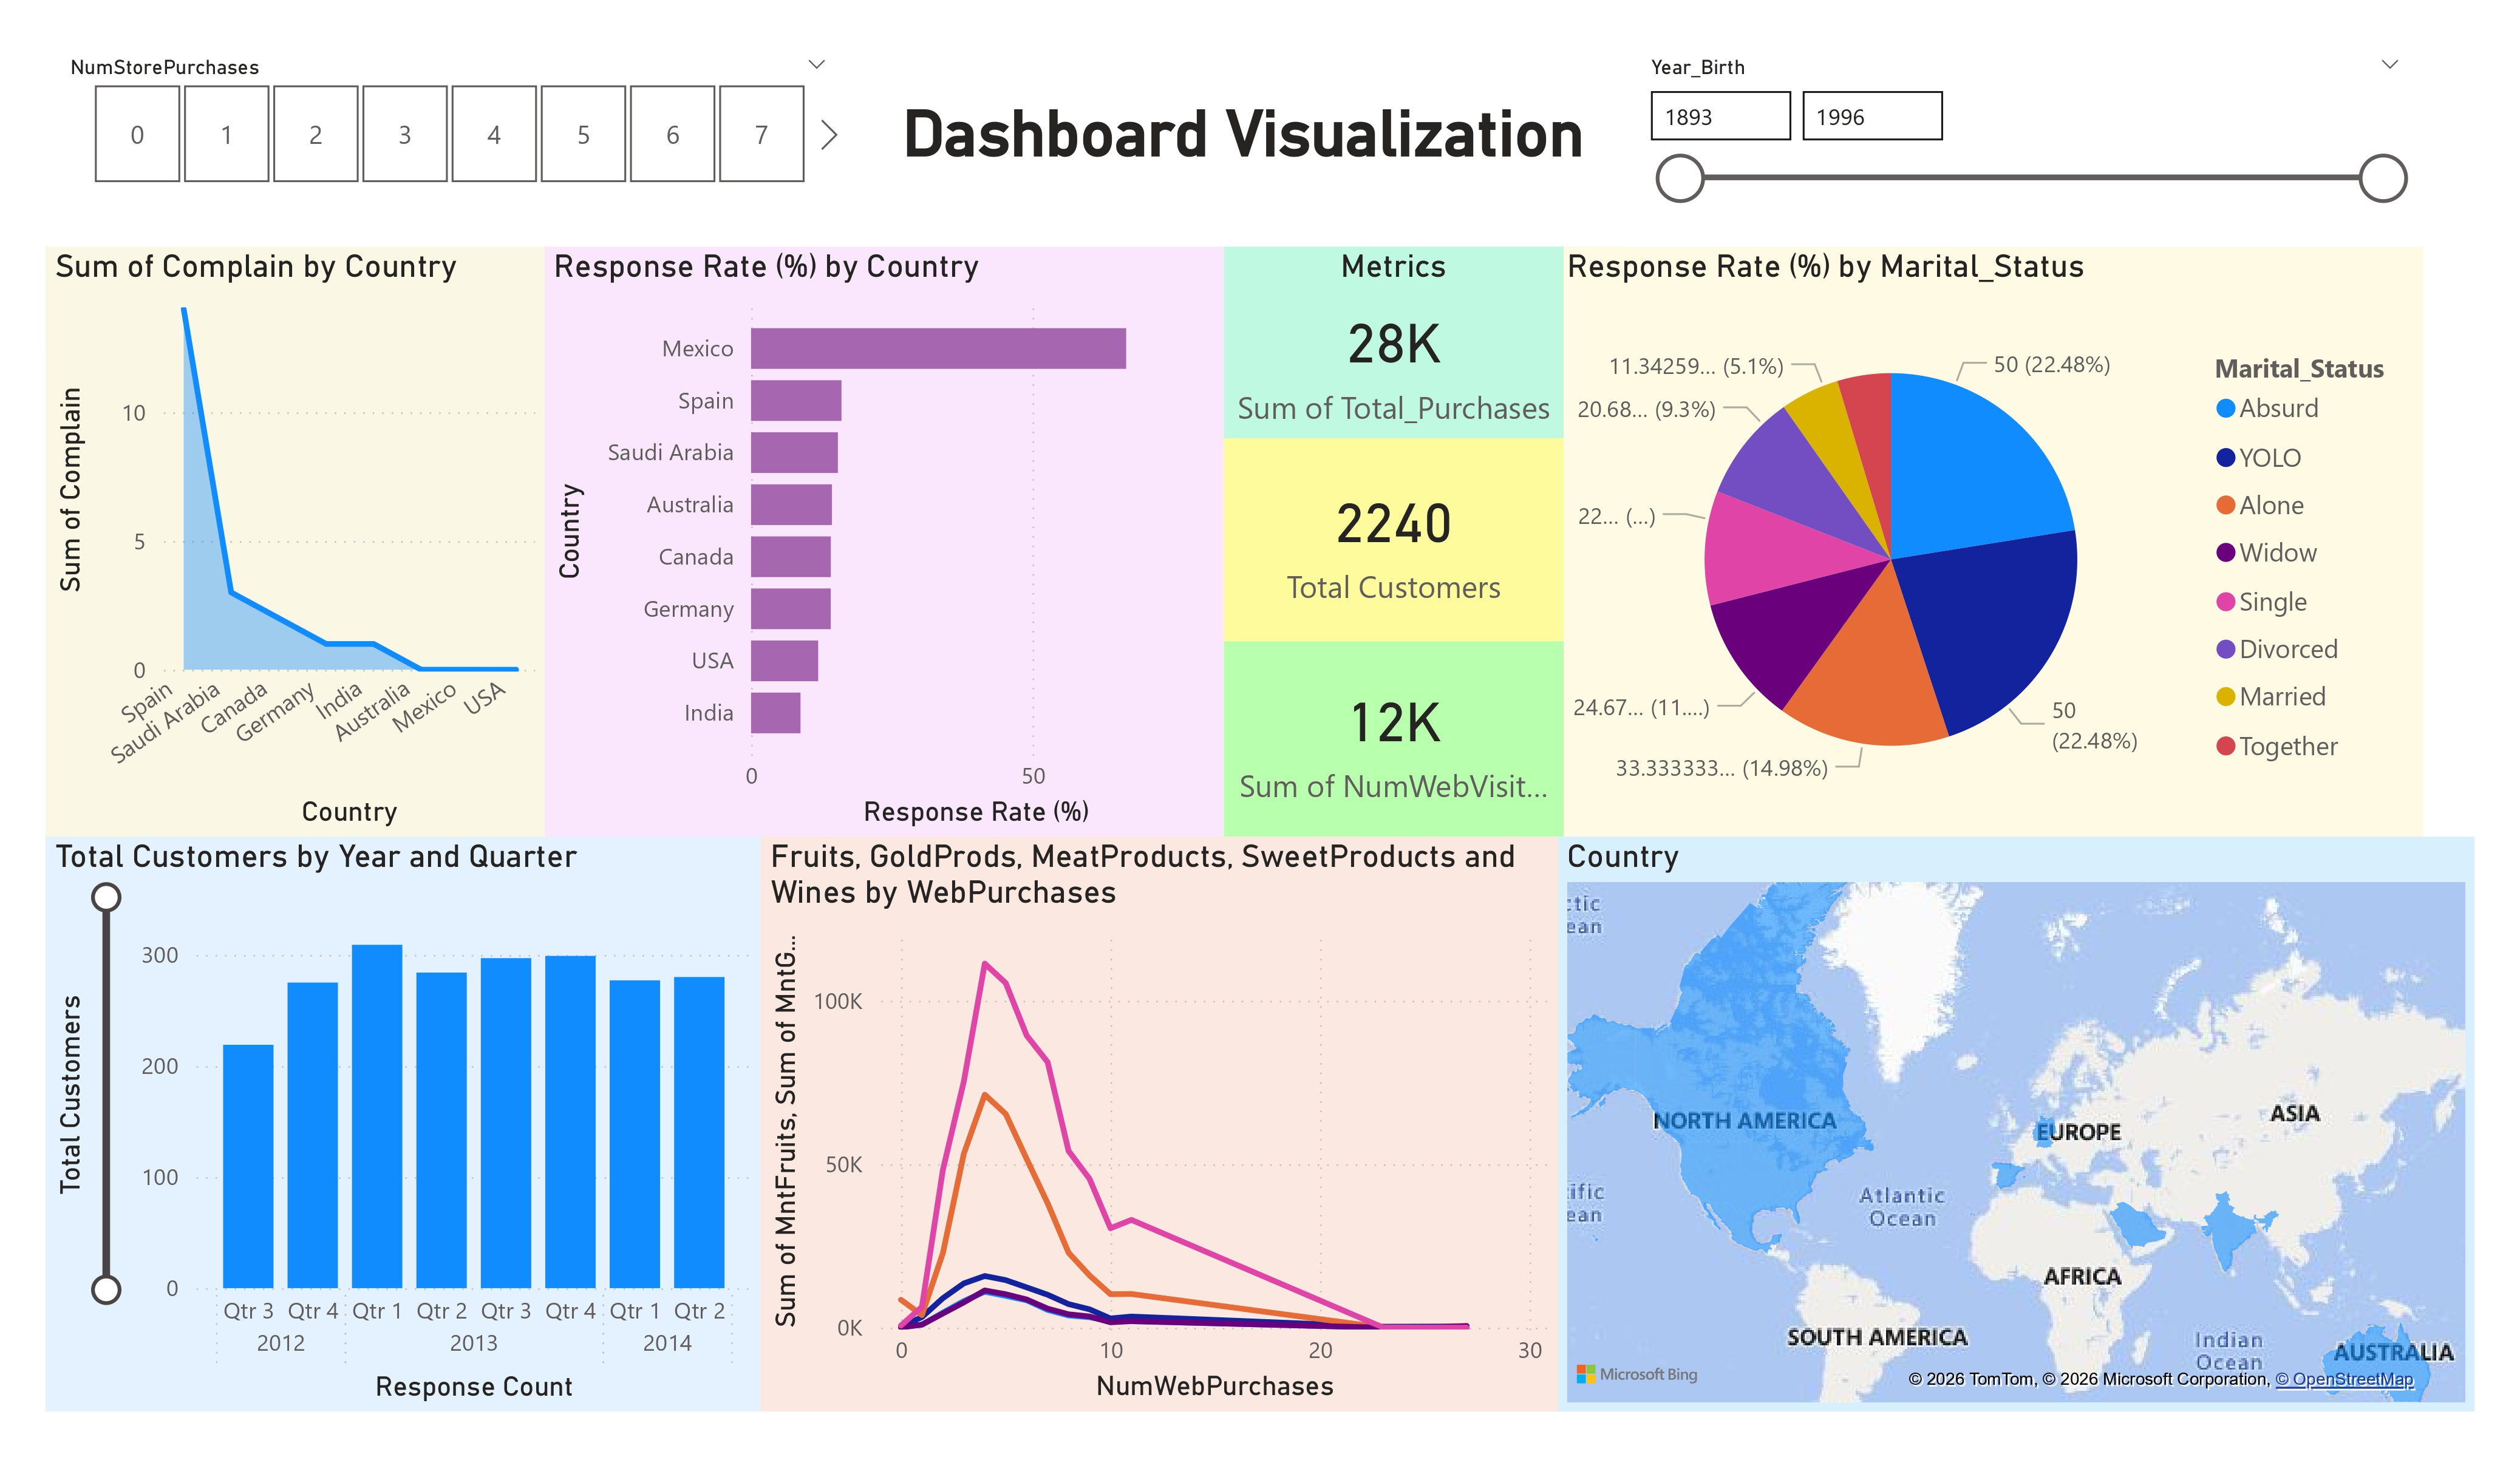

What the dashboard file says about the page in this screenshot:
{"tool":"powerbi","page":{"name":"Page 1","canvas":[1280,720],"ordinal":1},"visuals":[{"type":"textbox","box":[447.3,22,385.6,57.6],"z":0},{"type":"clusteredColumnChart","fields":{"Y":["marketing_cleaned.Total Customers"],"Category":["marketing_cleaned.Dt_Customer.Variation.Date Hierarchy.Year","marketing_cleaned.Dt_Customer.Variation.Date Hierarchy.Quarter"]},"box":[0,417.1,377.1,302.9],"z":1000},{"type":"clusteredBarChart","fields":{"Y":["marketing_cleaned.Response Rate (%)"],"Category":["marketing_cleaned.Country"]},"box":[262.9,105.7,358.6,311.4],"z":2000},{"type":"pieChart","fields":{"Y":["marketing_cleaned.Response Rate (%)"],"Category":["marketing_cleaned.Marital_Status"]},"box":[797.1,105.7,455.7,311.4],"z":3000},{"type":"filledMap","fields":{"Category":["marketing_cleaned.Country"]},"box":[797.1,417.1,482.9,302.9],"z":4000},{"type":"slicer","fields":{"Values":["marketing_cleaned.Year_Birth"]},"box":[832.9,0,420,105.7],"z":5000},{"type":"stackedAreaChart","fields":{"Y":["Sum(marketing_cleaned.Complain)"],"Category":["marketing_cleaned.Country"]},"box":[0,105.7,262.9,311.4],"z":6000},{"type":"card","title":"Metrics","fields":{"Values":["Sum(marketing_cleaned.Total_Purchases)"]},"box":[621.4,105.7,178.6,101.4],"z":7000},{"type":"card","fields":{"Values":["marketing_cleaned.Total Customers"]},"box":[621.4,207.1,178.6,107.1],"z":8000},{"type":"card","fields":{"Values":["Sum(marketing_cleaned.NumWebVisitsMonth)"]},"box":[621.4,314.3,178.6,102.9],"z":9000},{"type":"lineChart","title":"Fruits, GoldProds, MeatProducts, SweetProducts and Wines by WebPurchases","fields":{"Y":["Sum(marketing_cleaned.MntFruits)","Sum(marketing_cleaned.MntGoldProds)","Sum(marketing_cleaned.MntMeatProducts)","Sum(marketing_cleaned.MntSweetProducts)","Sum(marketing_cleaned.MntWines)"],"Category":["marketing_cleaned.NumWebPurchases"]},"box":[377.1,417.1,420,302.9],"z":10000},{"type":"slicer","fields":{"Values":["marketing_cleaned.NumStorePurchases"]},"box":[0,0,424.3,78.6],"z":11000}]}

Visuals, with their boxes in screenshot pixels (x1, y1, x2, y2):
textbox: 894:87:1626:197
clusteredColumnChart - marketing_cleaned.Total Customers x marketing_cleaned.Dt_Customer.Variation.Date Hierarchy.Year: 46:837:761:1411
clusteredBarChart - marketing_cleaned.Response Rate (%) x marketing_cleaned.Country: 545:246:1225:837
pieChart - marketing_cleaned.Response Rate (%) x marketing_cleaned.Marital_Status: 1558:246:2423:837
filledMap - marketing_cleaned.Country: 1558:837:2474:1411
slicer - marketing_cleaned.Year_Birth: 1626:46:2423:246
stackedAreaChart - Sum(marketing_cleaned.Complain) x marketing_cleaned.Country: 46:246:545:837
"Metrics" card: 1225:246:1564:438
card - marketing_cleaned.Total Customers: 1225:438:1564:642
card - Sum(marketing_cleaned.NumWebVisitsMonth): 1225:642:1564:837
"Fruits, GoldProds, MeatProducts, SweetProducts and Wines by WebPurchases" lineChart: 761:837:1558:1411
slicer - marketing_cleaned.NumStorePurchases: 46:46:851:195
